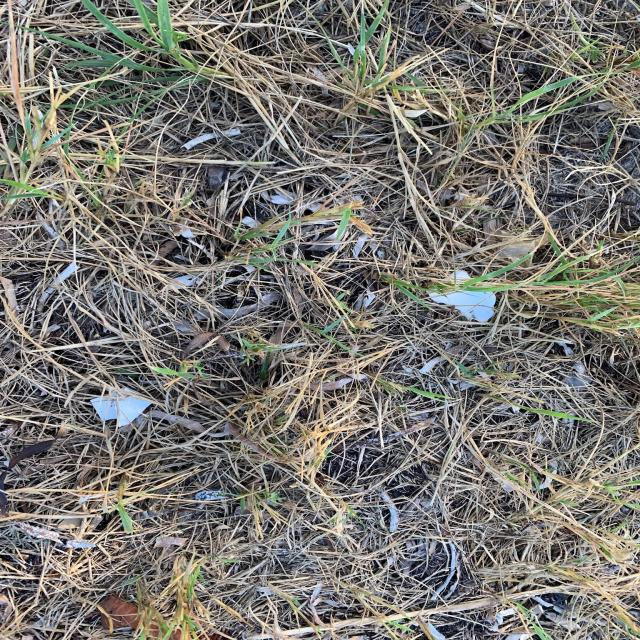litter: (428, 270, 496, 322), (90, 387, 154, 428)
